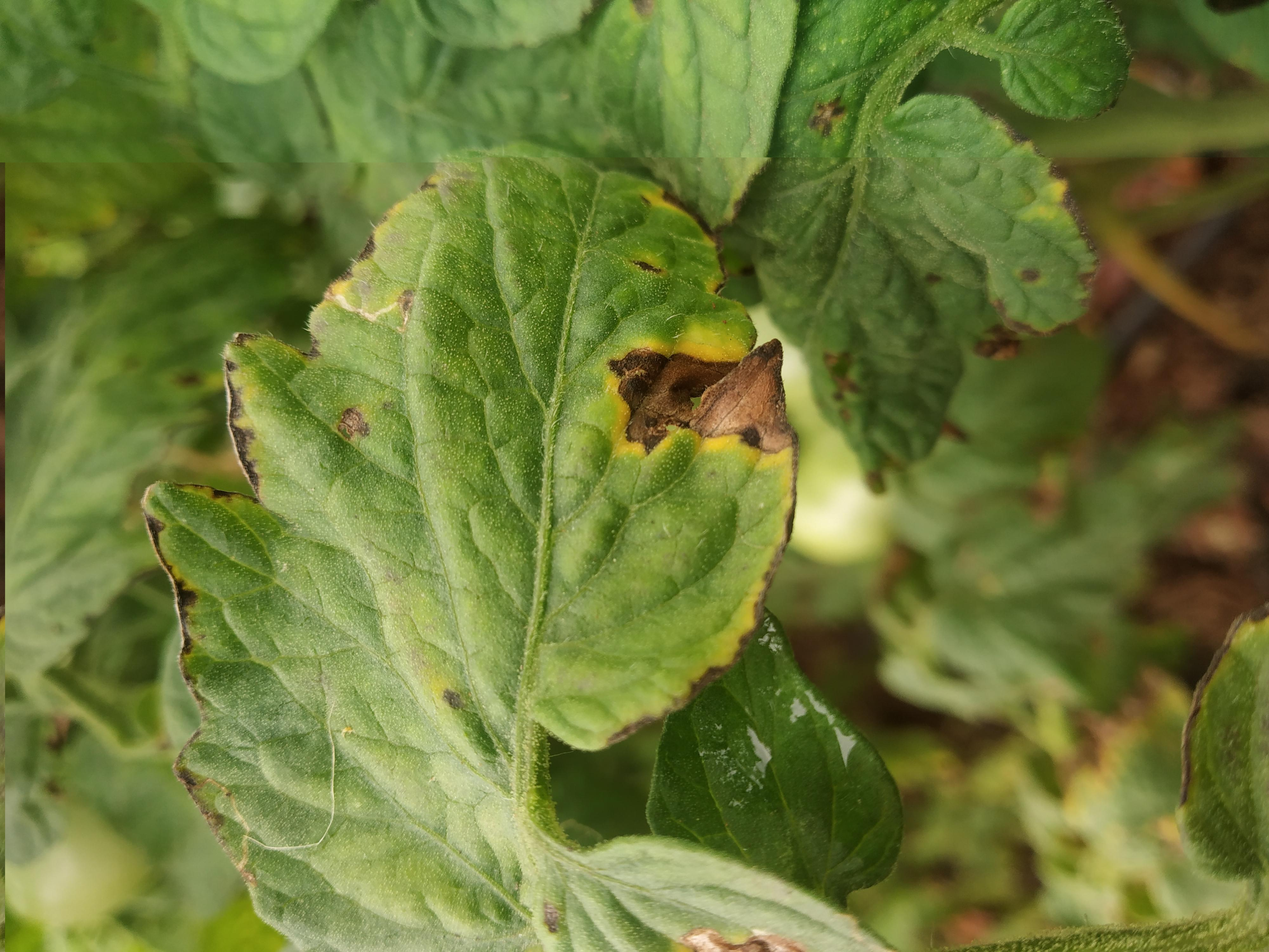Early Blight: (0, 96, 1090, 667)
